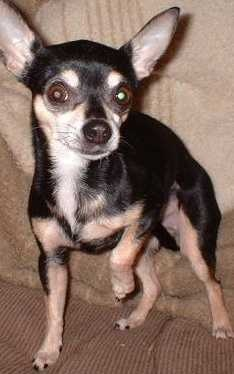dog: (30, 13, 219, 300)
